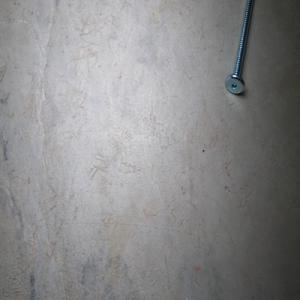Bolt: (224, 0, 253, 94)
